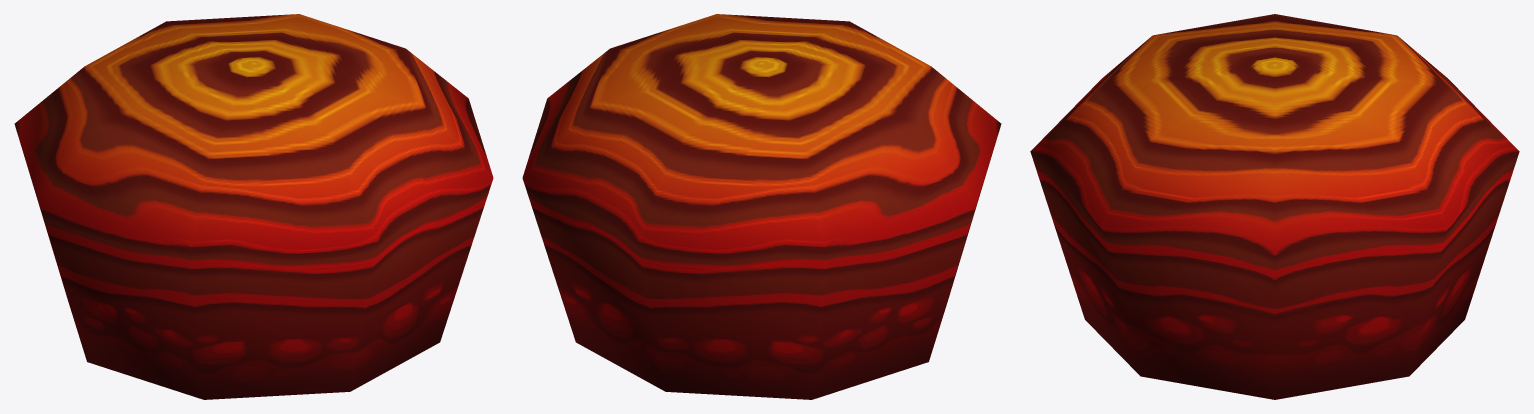
Rendered from Coral_29c.FBX.
3 renders of one model, left to right at view 1: azimuth 30°, elevation 25°; view 2: azimuth 150°, elevation 25°; view 3: azimuth 270°, elevation 25°, orthographic.
Visible parts, largest first — view 1: Coral_29c; view 2: Coral_29c; view 3: Coral_29c.
Boxes of the visible parts, box(x1,y1,x2,y2) form: Coral_29c: box(14, 14, 493, 399); Coral_29c: box(522, 14, 1001, 399); Coral_29c: box(1030, 14, 1519, 399).
Bounding box in the file's own units: 37.84 × 21.73 × 37.84.
